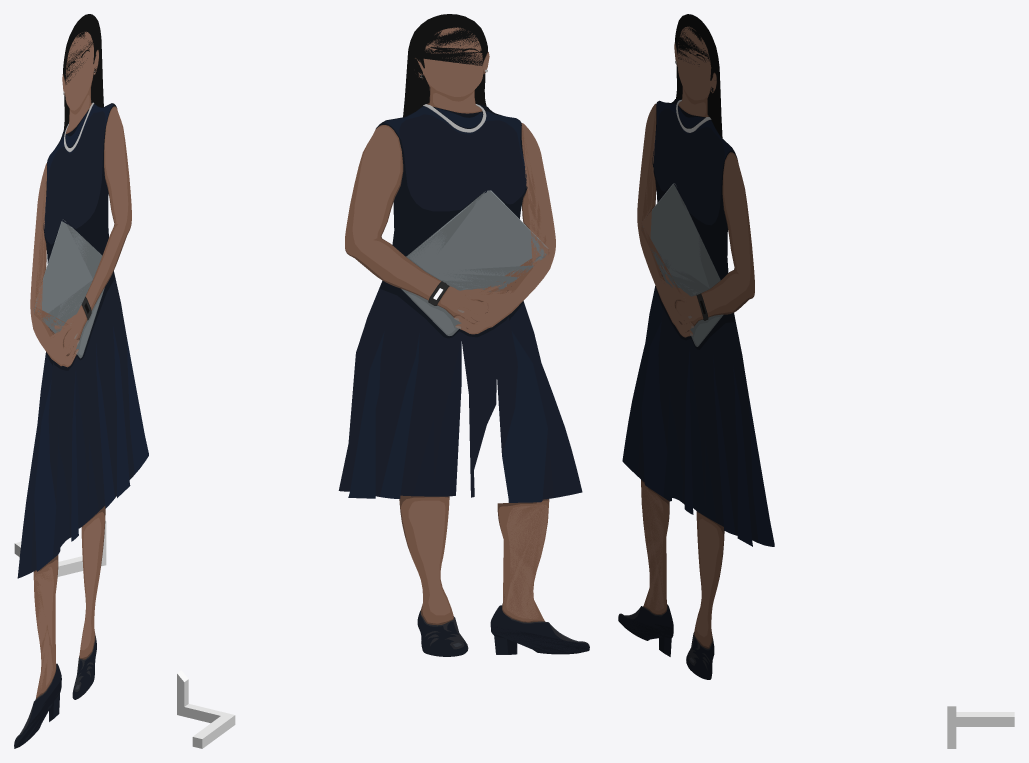
File: Penrose_triangle.fbx
3 renders of one model, left to right at view 1: azimuth 30°, elevation 25°; view 2: azimuth 150°, elevation 25°; view 3: azimuth 270°, elevation 25°, orthographic. The views are drawn at different scales.
Visible parts, largest first — view 1: Sree1, Penrose_triangle_stl1; view 2: Sree1, Penrose_triangle_stl1; view 3: Sree1, Penrose_triangle_stl1.
Part boxes in pixels (x1,y1,x2,y2): Sree1: (14, 14, 148, 748); Penrose_triangle_stl1: (14, 521, 106, 576); Sree1: (338, 14, 589, 656); Penrose_triangle_stl1: (177, 670, 235, 748); Sree1: (618, 14, 774, 679); Penrose_triangle_stl1: (947, 706, 1014, 748).
Bounding box in the file's own units: 25.31 × 62.82 × 34.23.
